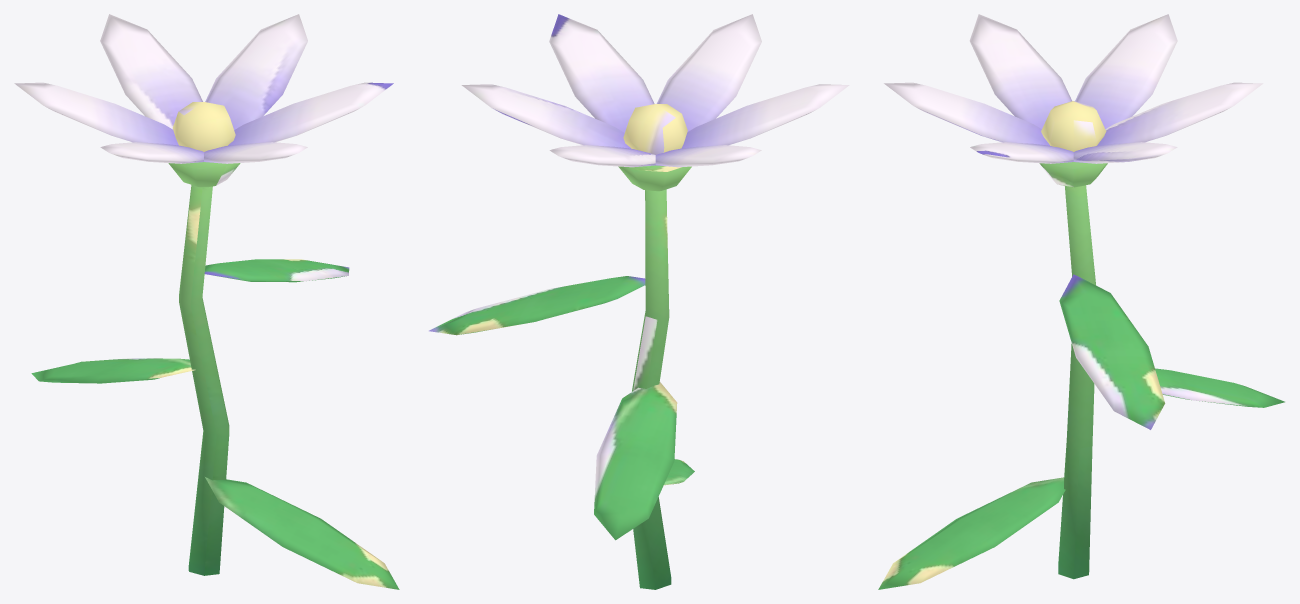
File: moonflower.glb
3 views of the same model, side by side, from view 1: azimuth 30°, elevation 25°; view 2: azimuth 150°, elevation 25°; view 3: azimuth 270°, elevation 25° (orthographic). The views are drawn at different scales.
Visible parts, largest first — view 1: MoonFlower_Stem, MoonFlower_Petal2, MoonFlower_Petal3, MoonFlower_Petal4, MoonFlower_Petal1, MoonFlower_Core, MoonFlower_Petal0, MoonFlower_Petal5; view 2: MoonFlower_Stem, MoonFlower_Petal1, MoonFlower_Petal0, MoonFlower_Petal5, MoonFlower_Petal2, MoonFlower_Core, MoonFlower_Petal3, MoonFlower_Petal4; view 3: MoonFlower_Stem, MoonFlower_Petal4, MoonFlower_Petal5, MoonFlower_Petal3, MoonFlower_Petal0, MoonFlower_Core, MoonFlower_Petal2, MoonFlower_Petal1.
Boxes of the visible parts, <box> form: MoonFlower_Stem: <box>31,162,399,589</box>; MoonFlower_Petal2: <box>205,14,307,129</box>; MoonFlower_Petal3: <box>100,14,202,129</box>; MoonFlower_Petal4: <box>14,82,178,145</box>; MoonFlower_Petal1: <box>228,82,393,145</box>; MoonFlower_Core: <box>172,102,235,151</box>; MoonFlower_Petal0: <box>204,142,307,163</box>; MoonFlower_Petal5: <box>100,142,204,163</box>; MoonFlower_Stem: <box>429,165,694,589</box>; MoonFlower_Petal1: <box>549,14,654,132</box>; MoonFlower_Petal0: <box>656,14,761,131</box>; MoonFlower_Petal5: <box>681,84,849,148</box>; MoonFlower_Petal2: <box>461,84,631,148</box>; MoonFlower_Core: <box>623,104,687,154</box>; MoonFlower_Petal3: <box>549,145,655,167</box>; MoonFlower_Petal4: <box>655,145,761,167</box>; MoonFlower_Stem: <box>878,162,1284,589</box>; MoonFlower_Petal4: <box>1075,14,1177,128</box>; MoonFlower_Petal5: <box>969,14,1071,128</box>; MoonFlower_Petal3: <box>1097,82,1263,145</box>; MoonFlower_Petal0: <box>884,82,1049,145</box>; MoonFlower_Core: <box>1041,101,1106,151</box>; MoonFlower_Petal2: <box>1073,142,1177,163</box>; MoonFlower_Petal1: <box>970,142,1073,163</box>.
Bounding box in the file's own units: 1.27 × 1.82 × 1.37.
Materials: 1 (1 with a texture image).
